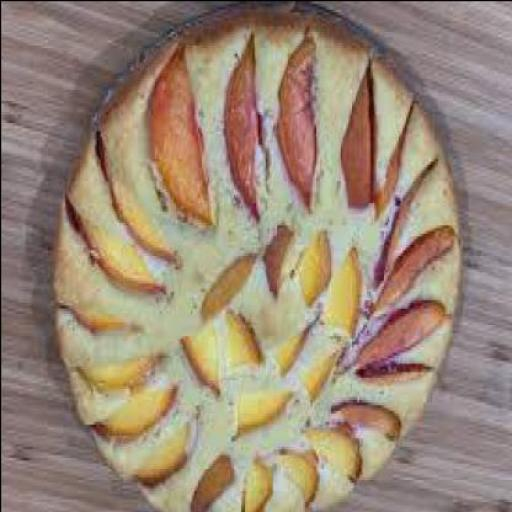biodegradable: (50, 2, 466, 511)
